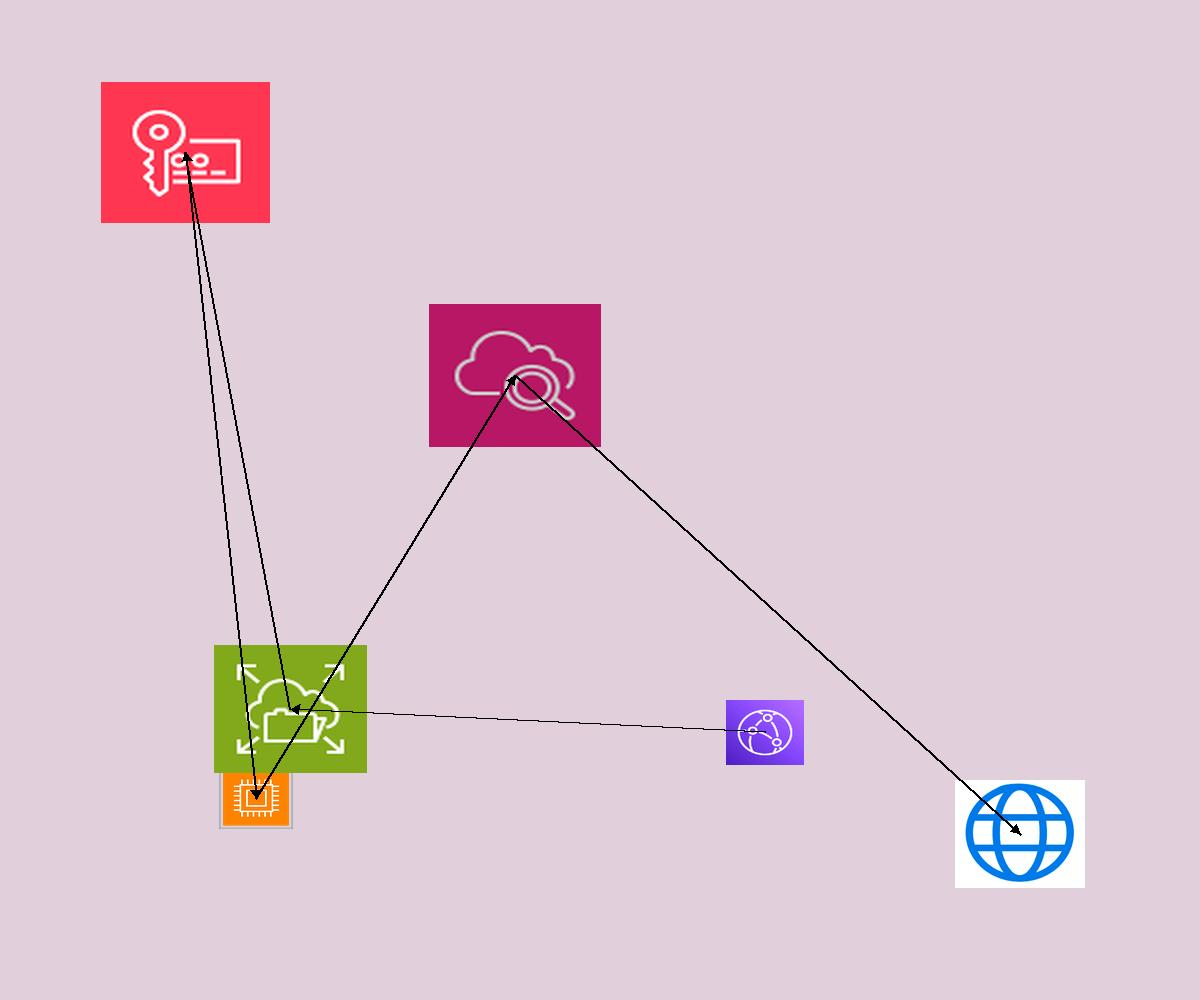AWS-Category_Compute: (219, 768, 293, 829)
AWS-CloudFront: (726, 700, 804, 765)
AWS-CloudWatch: (429, 304, 601, 447)
AWS-EFS: (214, 645, 367, 773)
AWS-Key-Management-Service: (101, 82, 270, 223)
Azure_http: (955, 780, 1085, 888)
